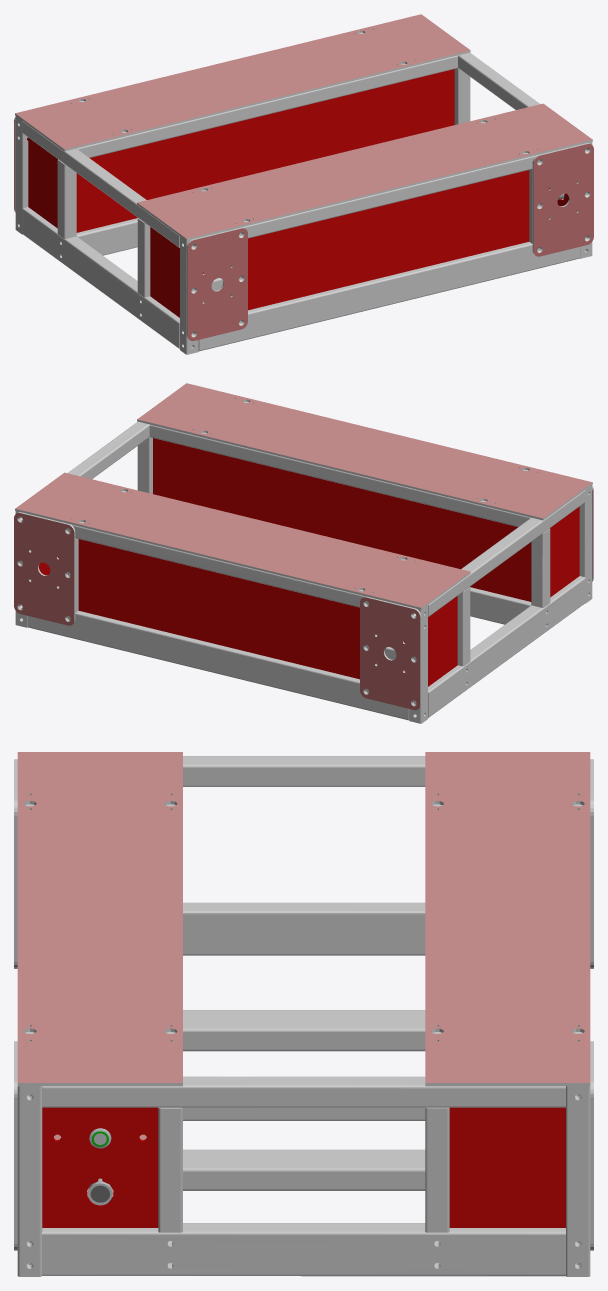
3 renders of one model, top to bottom at view 1: azimuth 30°, elevation 25°; view 2: azimuth 150°, elevation 25°; view 3: azimuth 270°, elevation 25°, orthographic. The views are drawn at different scales.
Parts seen in each view (by area): view 1: Base; view 2: Base; view 3: Base.
Part boxes in pixels (<box>): Base: <box>14,14,593,354</box>; Base: <box>14,383,593,723</box>; Base: <box>14,752,593,1276</box>.
Size of the model in its own units: 0.64 by 0.4739 by 0.175.
